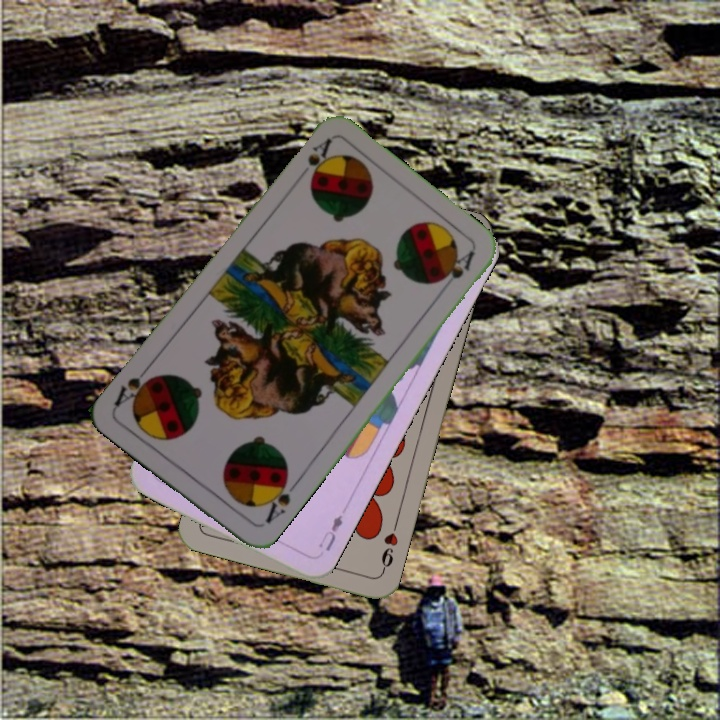EU: (314, 510, 345, 554)
H9: (377, 517, 401, 575)
SA: (258, 472, 300, 526), (292, 134, 335, 185)
